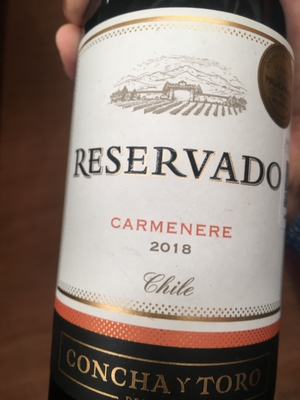reservado carmenere: (63, 5, 294, 400)
